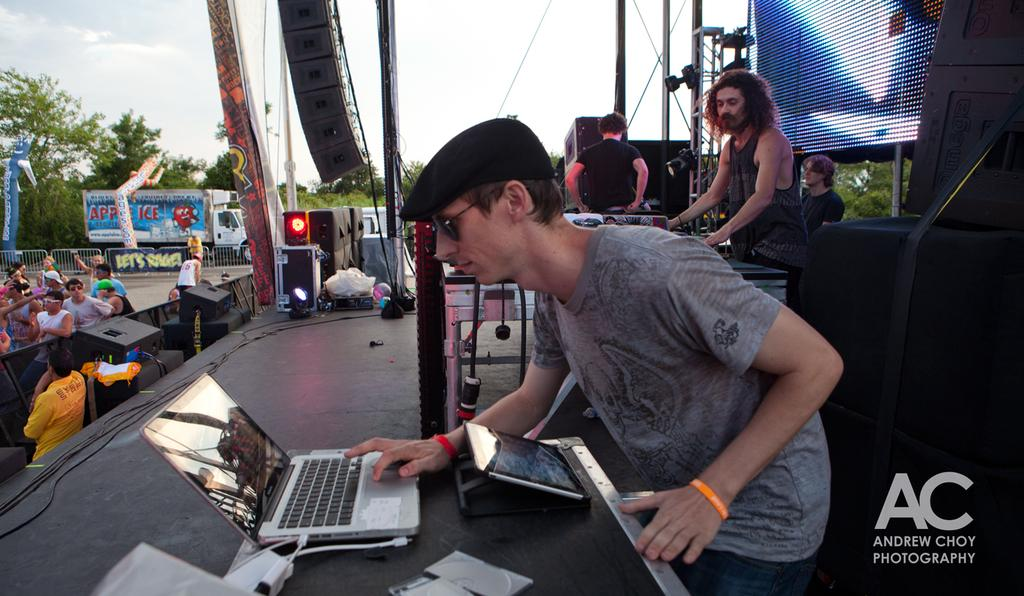Laptop: (155, 343, 436, 567), (603, 213, 670, 231)
